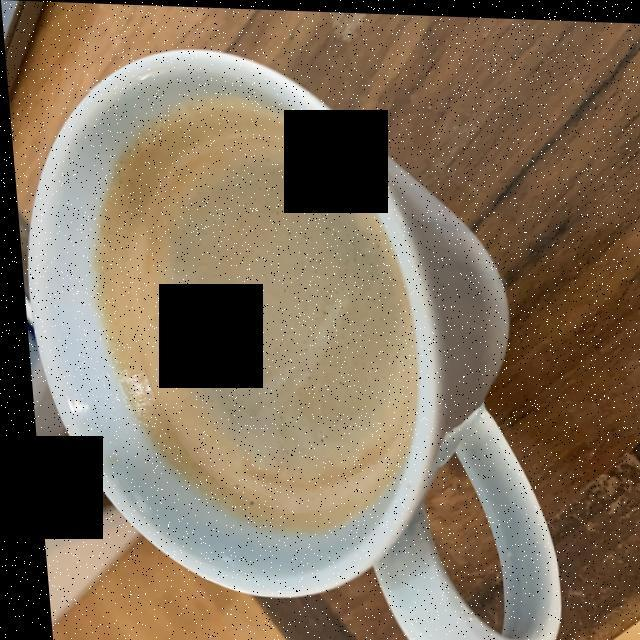coffee: (99, 100, 405, 524)
